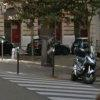Motorcycle: (66, 49, 100, 93)
